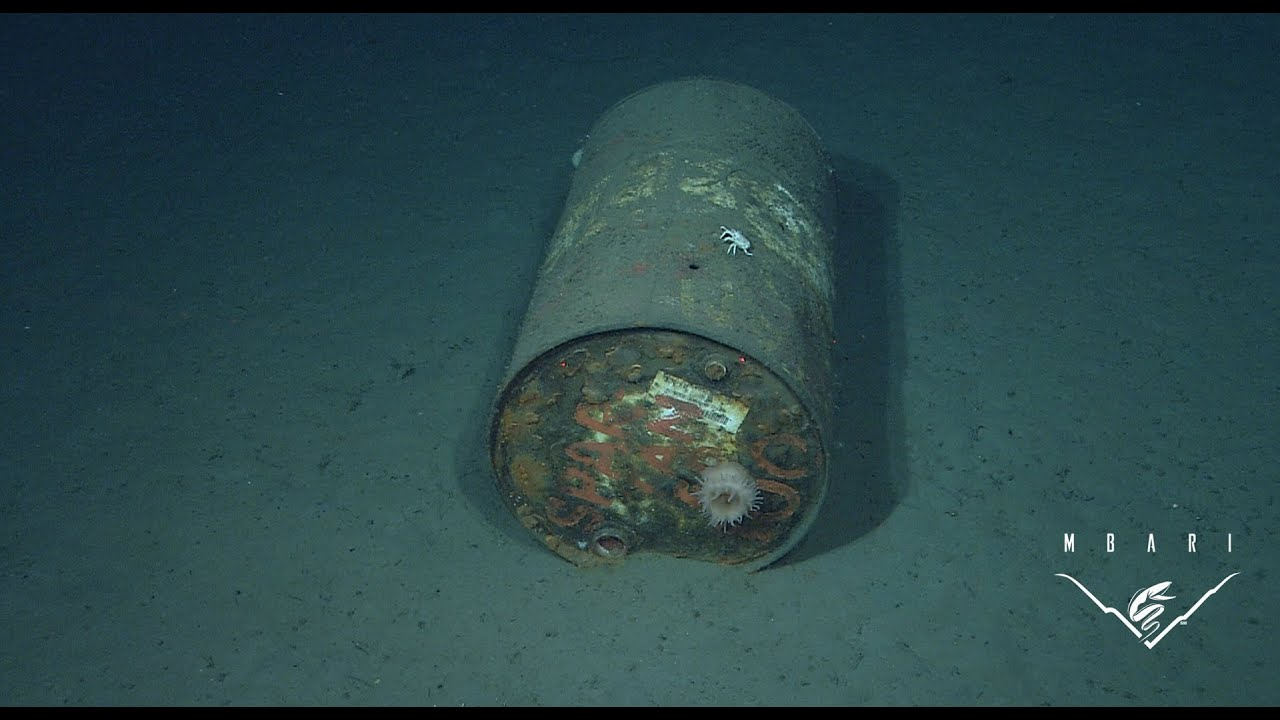Metal: (475, 71, 848, 566)
